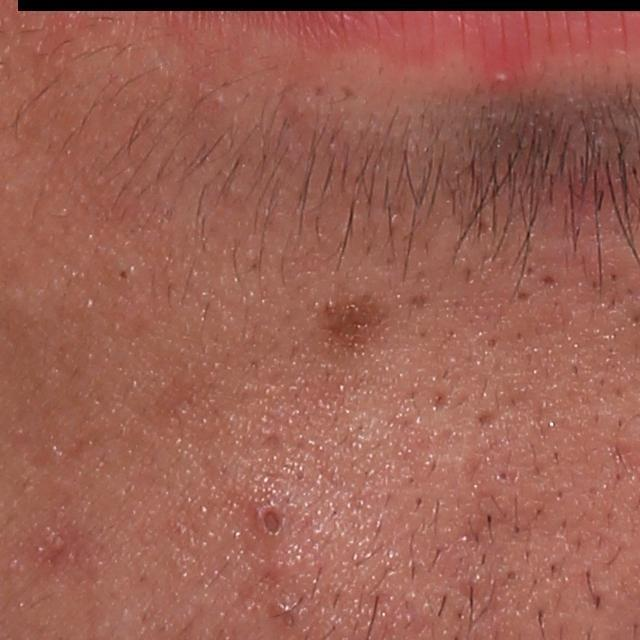atrophic_scar: (473, 408, 497, 434), (537, 273, 560, 288)
comedo: (251, 493, 292, 546), (107, 261, 136, 290)
nevus: (319, 296, 385, 355)
